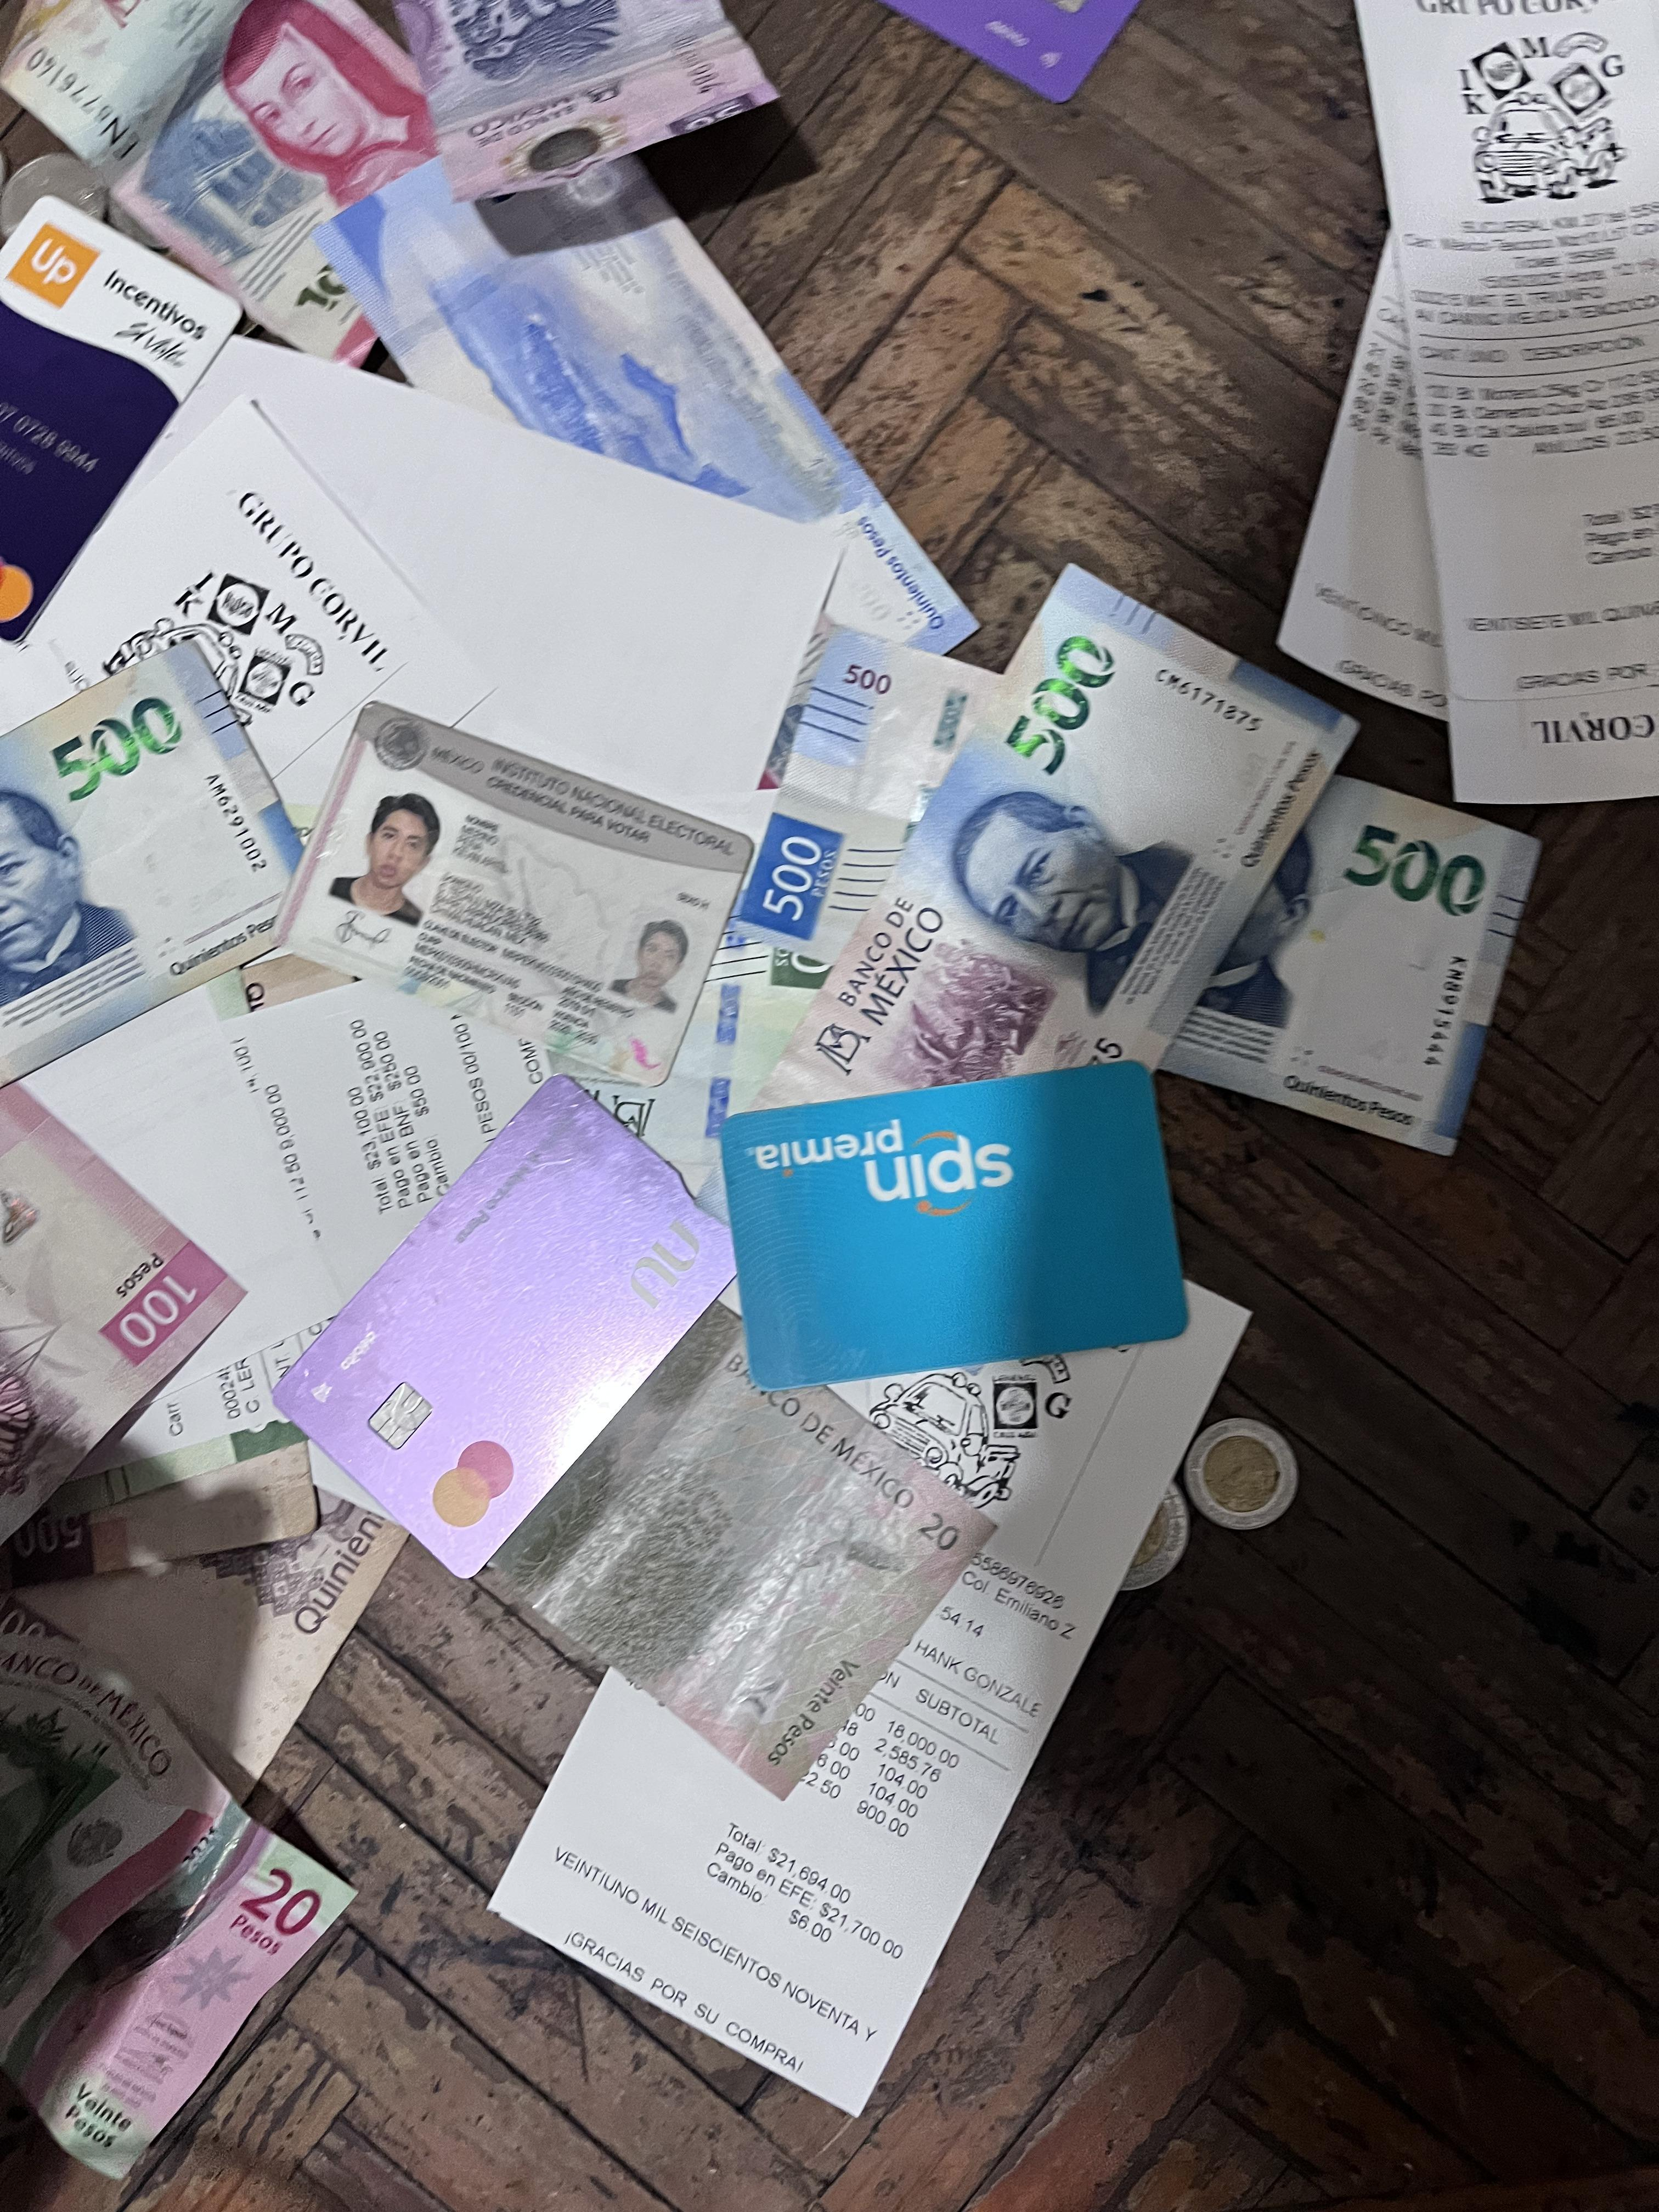100: (0, 0, 474, 387), (0, 1069, 263, 1597)
20: (366, 1294, 1026, 1827), (0, 1615, 373, 2196)
50: (373, 0, 769, 206)
500: (0, 1433, 511, 1797)
500 nuevo: (680, 554, 1371, 1317), (711, 611, 1558, 1217), (331, 115, 971, 740), (0, 631, 357, 1073)
